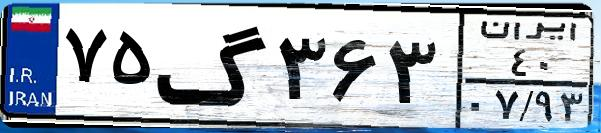0: (537, 27, 568, 80), (470, 70, 495, 125)
3: (270, 28, 330, 110), (385, 28, 445, 110), (560, 70, 590, 125)
4: (508, 27, 537, 80)
5: (110, 28, 156, 98)
6: (330, 28, 385, 110)
7: (57, 26, 110, 100), (495, 70, 520, 125)
9: (535, 70, 560, 125)
گ: (156, 12, 270, 120)
